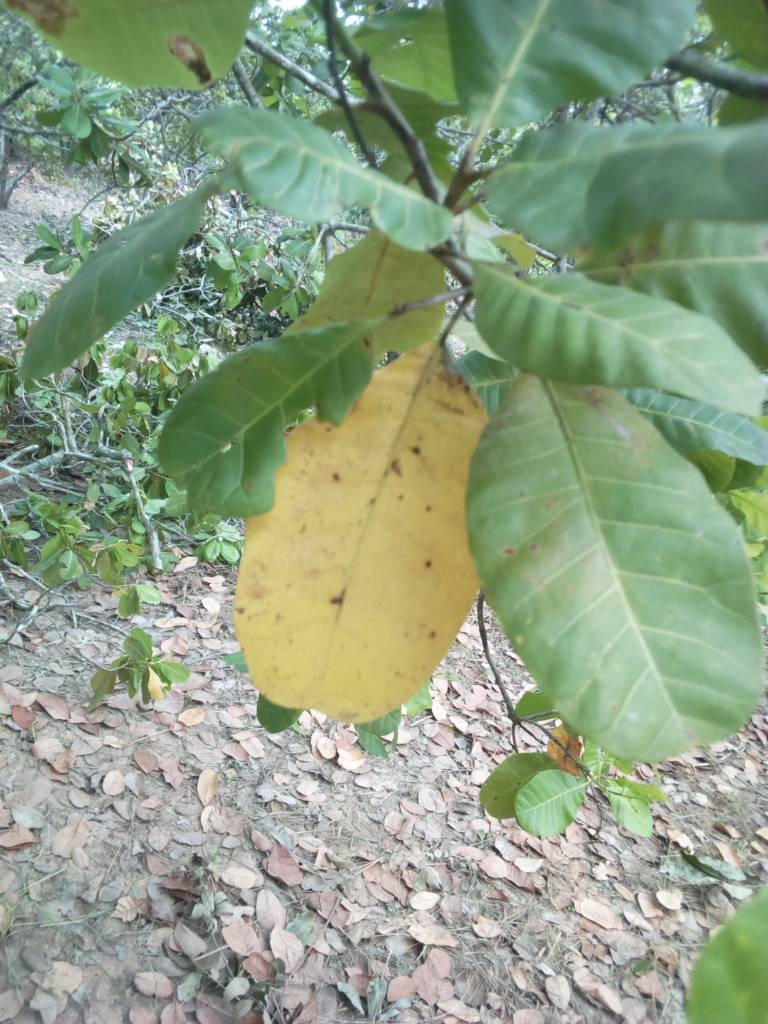Anthracnose: (480, 375, 768, 763), (229, 333, 479, 716)
